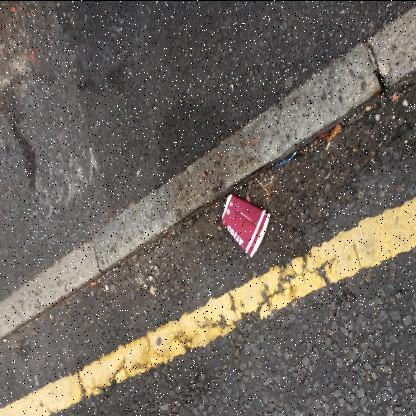cardboard: (220, 194, 270, 258)
